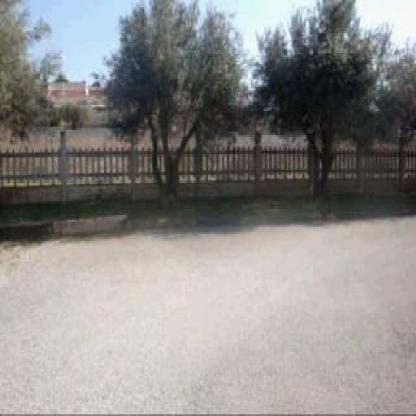other: (370, 2, 414, 43)
